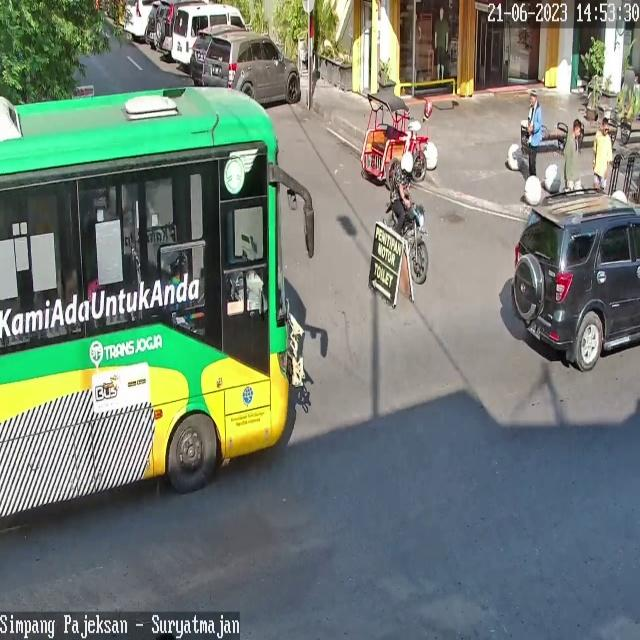bus: (385, 201, 429, 286)
car: (0, 87, 290, 516)
motorcycle: (512, 188, 640, 373), (203, 31, 300, 102), (172, 4, 247, 64), (190, 28, 213, 83), (154, 0, 175, 54), (124, 0, 151, 35)
